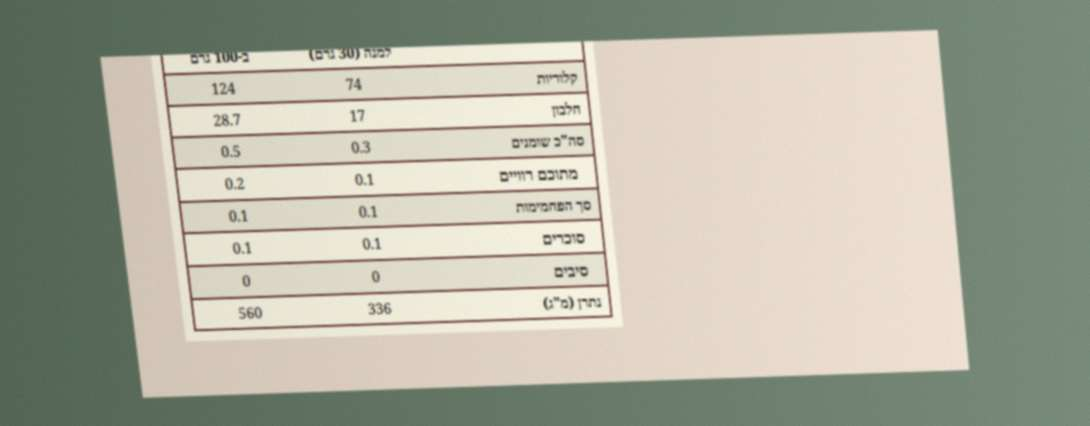carbs: (225, 203, 252, 229)
energy: (208, 75, 239, 102)
fat: (217, 138, 244, 164)
protein: (210, 107, 244, 133)
